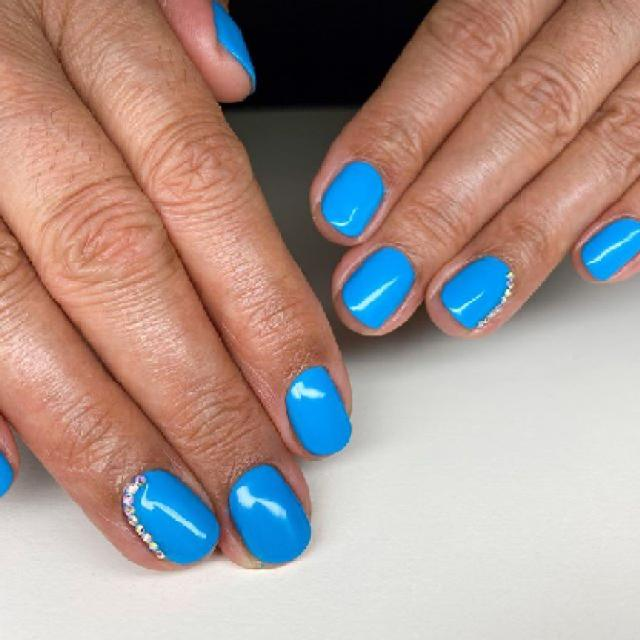Nail: (122, 470, 219, 564), (229, 465, 310, 564), (341, 246, 415, 329), (286, 366, 351, 455), (440, 256, 512, 330), (320, 160, 385, 238), (212, 0, 256, 91), (580, 218, 640, 280), (0, 451, 14, 496)
